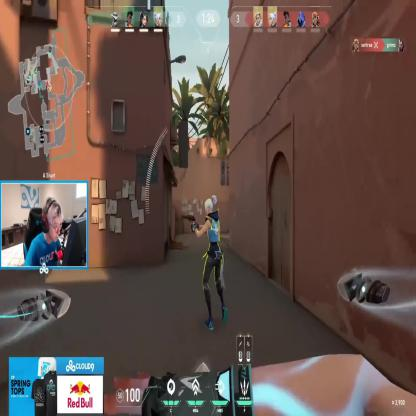enemy: (191, 196, 228, 329)
enemy_head: (204, 196, 217, 216)
